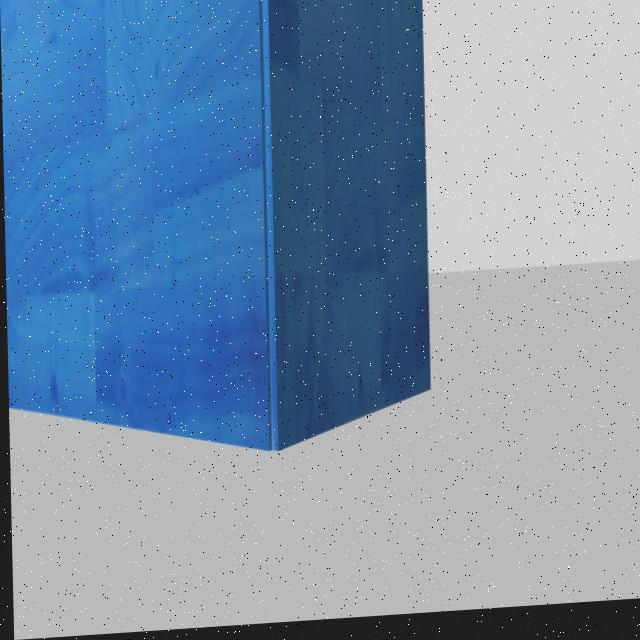shelf: (0, 0, 452, 524)
